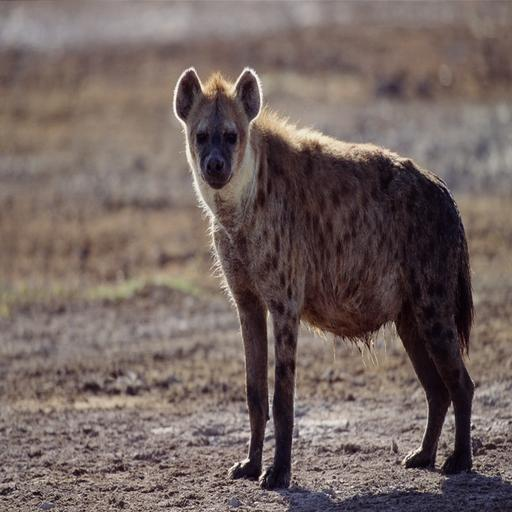Hyena: (175, 61, 478, 490)
